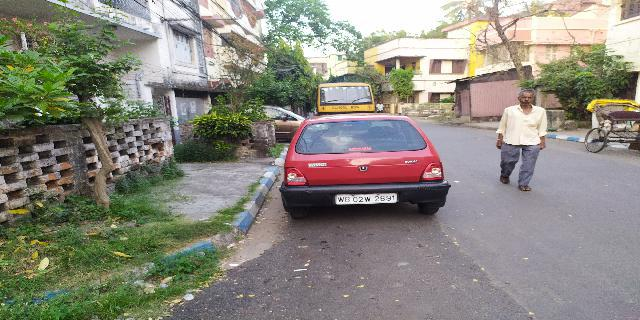Car: (284, 109, 458, 221)
Rickshaw: (575, 91, 640, 152)
Truck: (311, 77, 376, 114)
